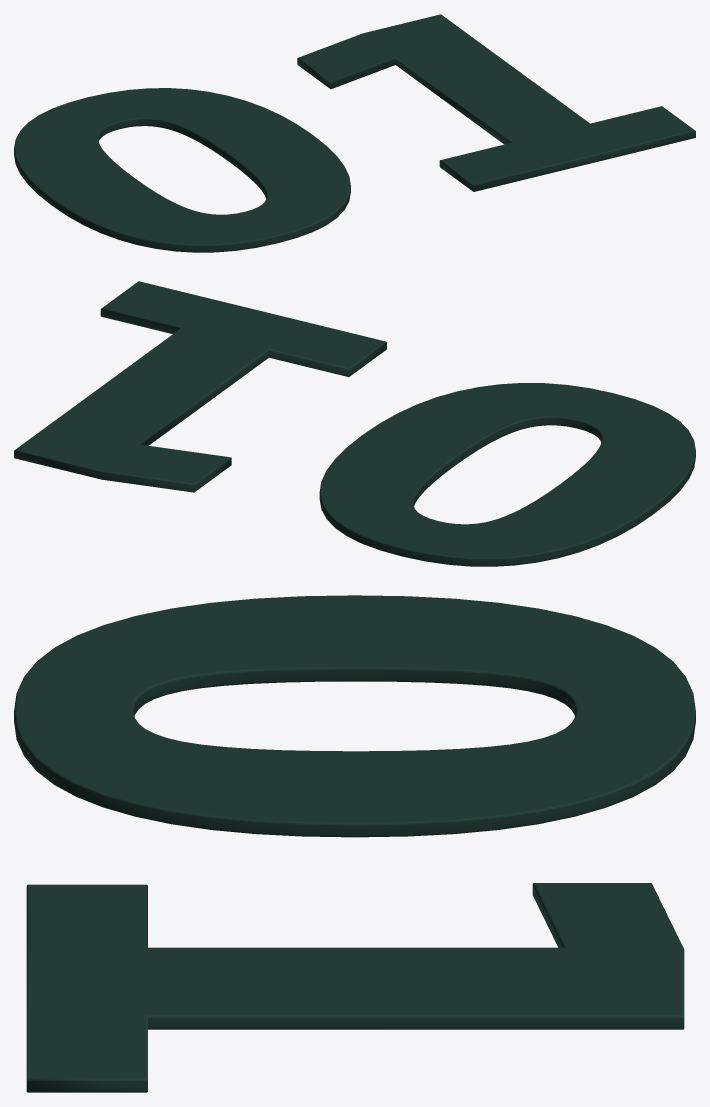
File: SM_EG_Lane_number_87c306060d.fbx
3 renders of one model, top to bottom at view 1: azimuth 30°, elevation 25°; view 2: azimuth 150°, elevation 25°; view 3: azimuth 270°, elevation 25°, orthographic. The views are drawn at different scales.
Visible parts, largest first — view 1: SM_EG_Lane_number_87c306060d; view 2: SM_EG_Lane_number_87c306060d; view 3: SM_EG_Lane_number_87c306060d.
Part boxes in pixels (x1,y1,x2,y2): SM_EG_Lane_number_87c306060d: (14, 14, 695, 252); SM_EG_Lane_number_87c306060d: (14, 281, 695, 566); SM_EG_Lane_number_87c306060d: (14, 595, 695, 1092).
Bounding box in the file's own units: 31.4 × 18.69 × 0.44.
